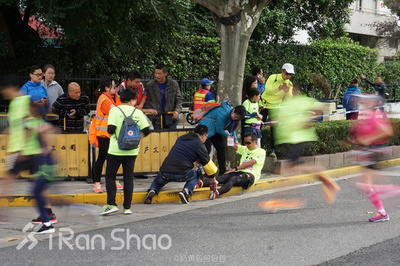10+: (1, 53, 392, 241)
down: (214, 132, 268, 194)
